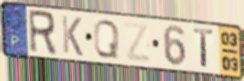6: (162, 24, 187, 68)
K: (60, 13, 85, 58)
Q: (92, 18, 121, 60)
R: (27, 9, 59, 58)
T: (192, 26, 215, 70)
Z: (121, 20, 153, 65)
